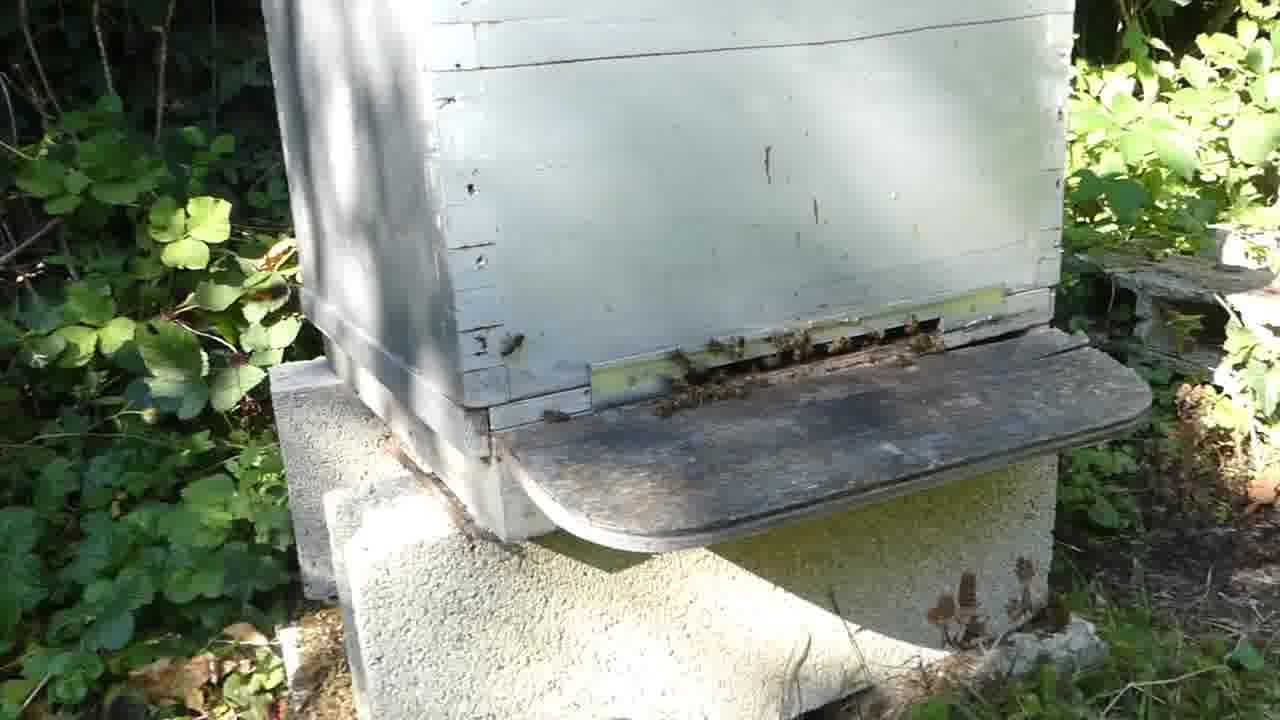bee: (493, 333, 533, 363), (546, 405, 573, 426)
